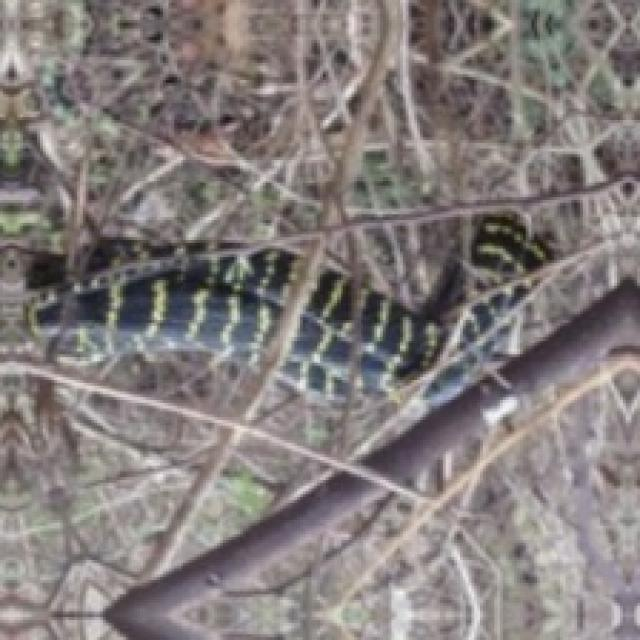mangrove cat snake: (29, 211, 549, 417)
